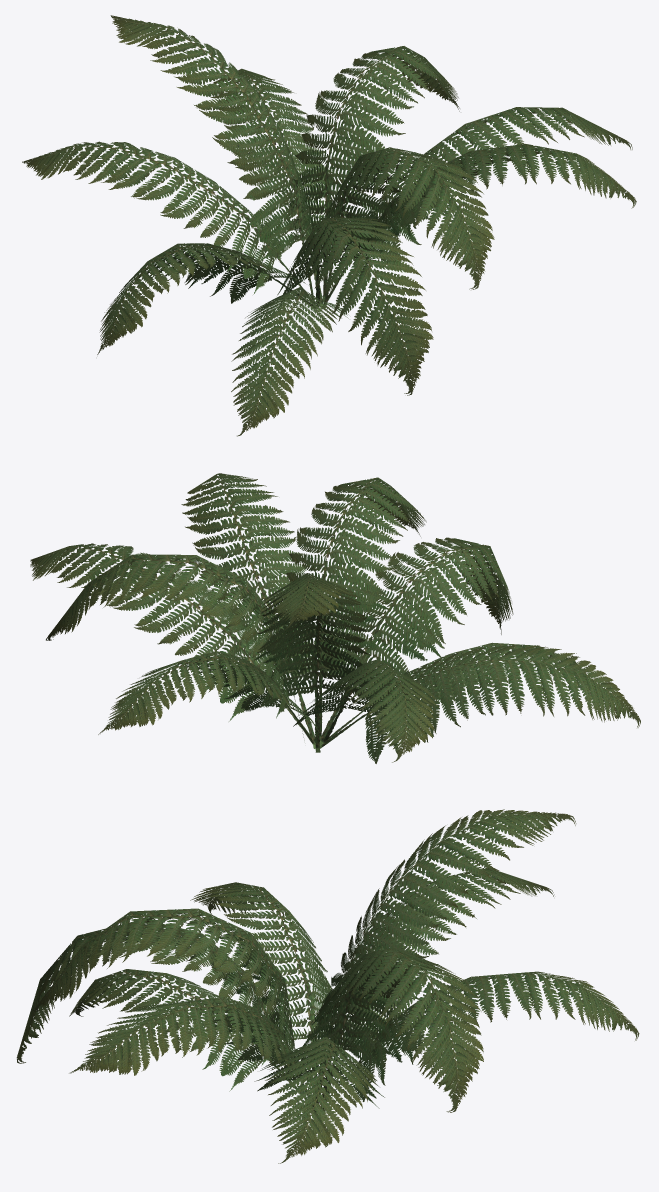
Rendered from SM_Veg_Fern_01.FBX.
3 views of the same model, one above another, from view 1: azimuth 30°, elevation 25°; view 2: azimuth 150°, elevation 25°; view 3: azimuth 270°, elevation 25° (orthographic). The views are drawn at different scales.
Parts seen in each view (by area): view 1: SM_Veg_Fern_01; view 2: SM_Veg_Fern_01; view 3: SM_Veg_Fern_01.
Boxes of the visible parts, <box> form: SM_Veg_Fern_01: <box>22,15,636,436</box>; SM_Veg_Fern_01: <box>30,473,640,763</box>; SM_Veg_Fern_01: <box>16,809,639,1163</box>.
Bounding box in the file's own units: 2.77 × 1.15 × 2.42.
